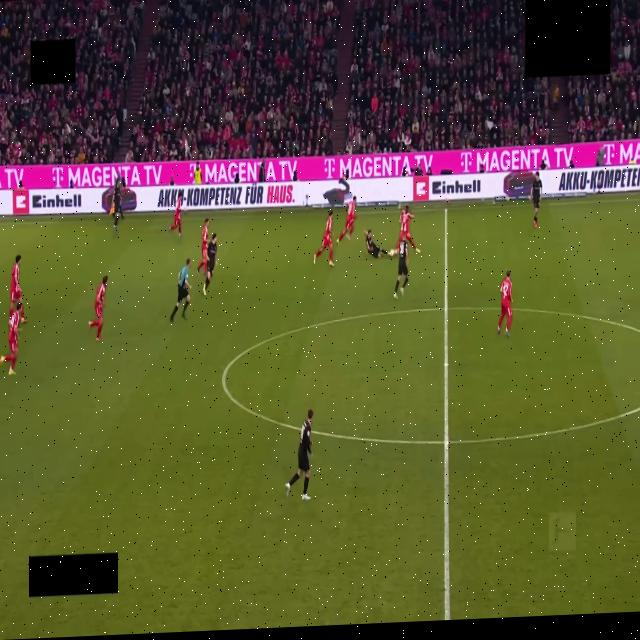ball: (388, 249, 397, 256)
player: (285, 410, 313, 500), (0, 302, 21, 375), (89, 275, 107, 341), (10, 255, 26, 323), (314, 210, 333, 266), (400, 206, 420, 253), (498, 270, 512, 336), (337, 196, 356, 244), (394, 234, 408, 298), (203, 233, 216, 295), (365, 230, 391, 258), (169, 190, 183, 237), (197, 219, 209, 273), (112, 179, 123, 230), (531, 172, 541, 227)
referee: (170, 259, 190, 322)
